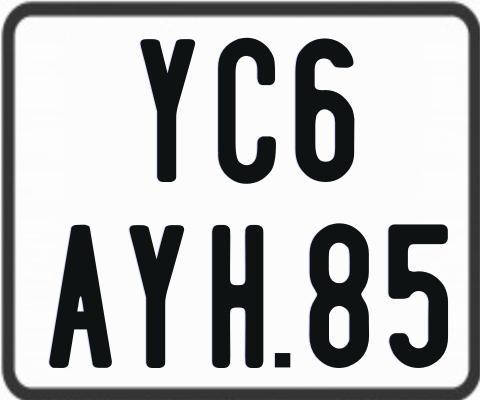5: (386, 221, 449, 370)
6: (295, 37, 355, 182)
8: (308, 222, 369, 367)
A: (49, 223, 117, 372)
C: (216, 38, 276, 185)
H: (209, 224, 265, 373)
Y: (129, 225, 189, 374), (139, 36, 200, 181)
